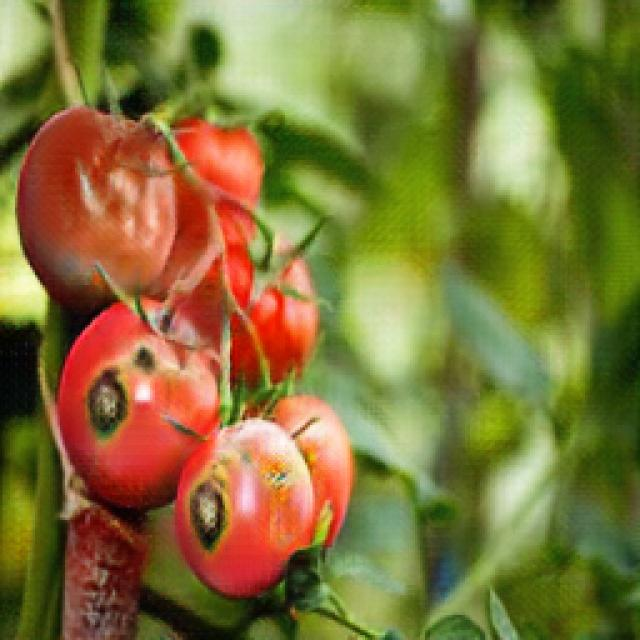overripe tomato: (57, 293, 217, 502), (176, 420, 316, 588)
